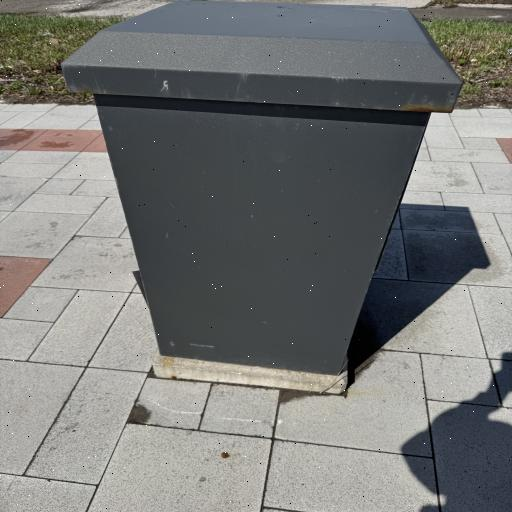Electrical Box: (60, 6, 464, 378)
